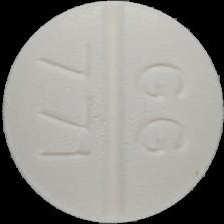63187-234: (0, 0, 224, 224)
